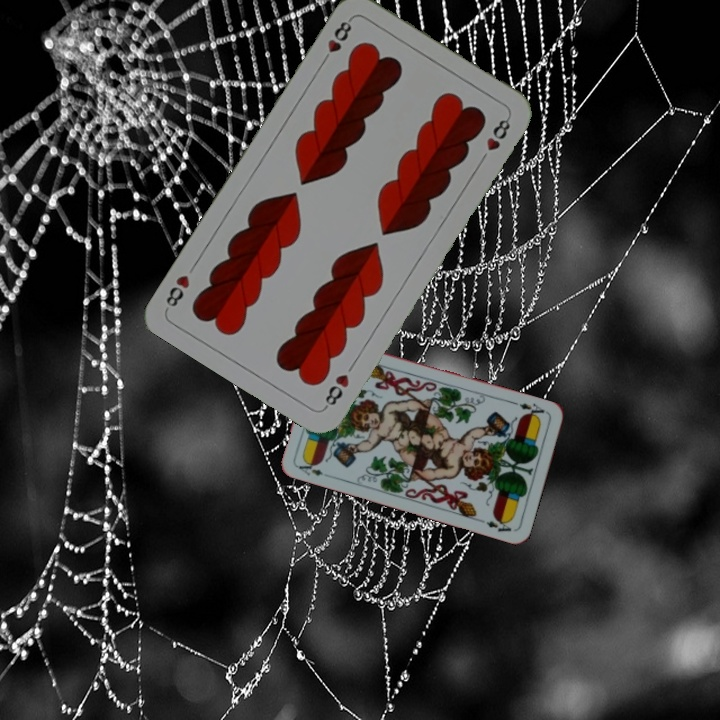EA: (510, 398, 547, 421), (295, 456, 325, 478)
H8: (317, 14, 355, 67), (320, 369, 352, 411)
